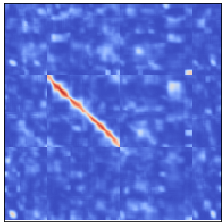action_path: (44, 75, 119, 149)
